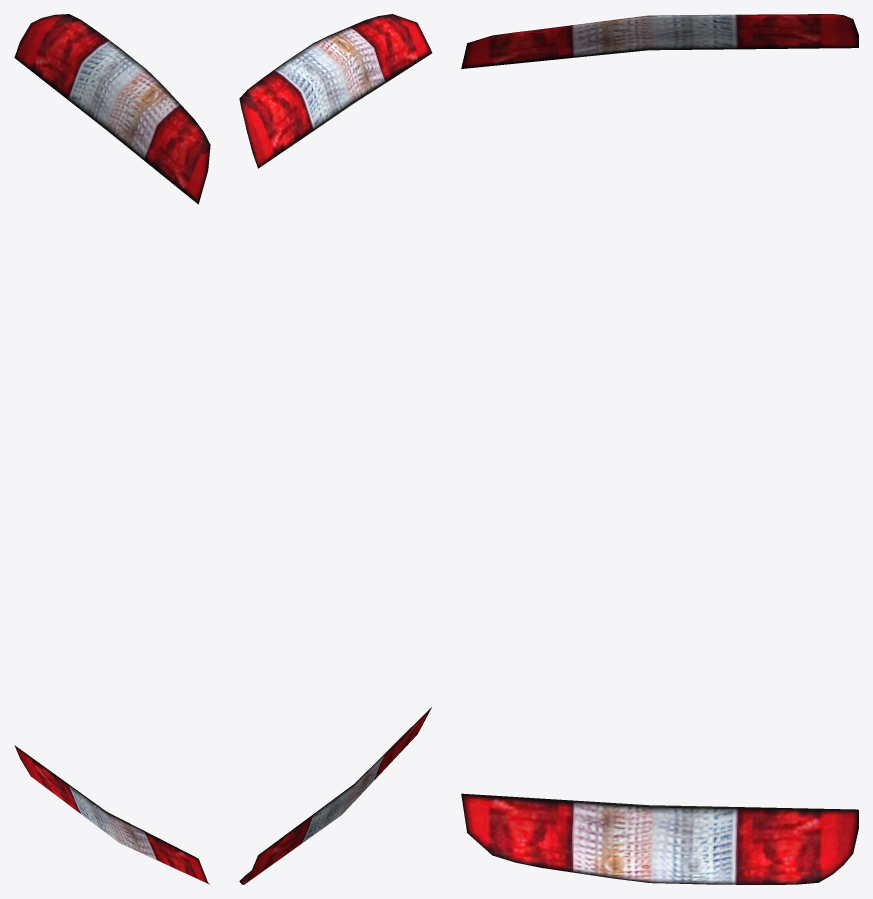
Rendered from brakes_on.obj.
The picture shows the model from 3 angles, left to right: view 1: azimuth 30°, elevation 25°; view 2: azimuth 150°, elevation 25°; view 3: azimuth 270°, elevation 25°; orthographic projection. The views are drawn at different scales.
Visible parts, largest first — view 1: brakes_on; view 2: brakes_on; view 3: brakes_on.
Boxes of the visible parts, x1,y1,x2,y2 form: brakes_on: (14,14,210,884); brakes_on: (239,14,432,884); brakes_on: (461,14,858,884).
Size of the model in its own units: 0.0867 by 1.56 by 0.646.
Materials: 1 (1 with a texture image).
